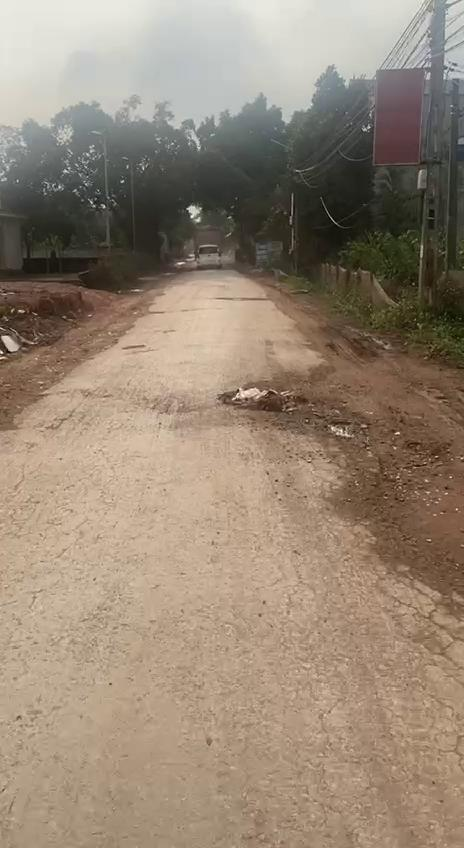pothole: (218, 384, 314, 416)
